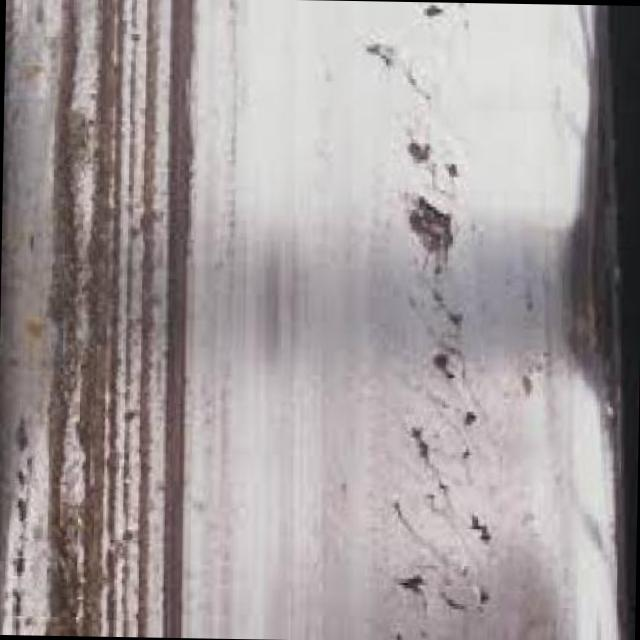defective: (218, 0, 628, 640)
